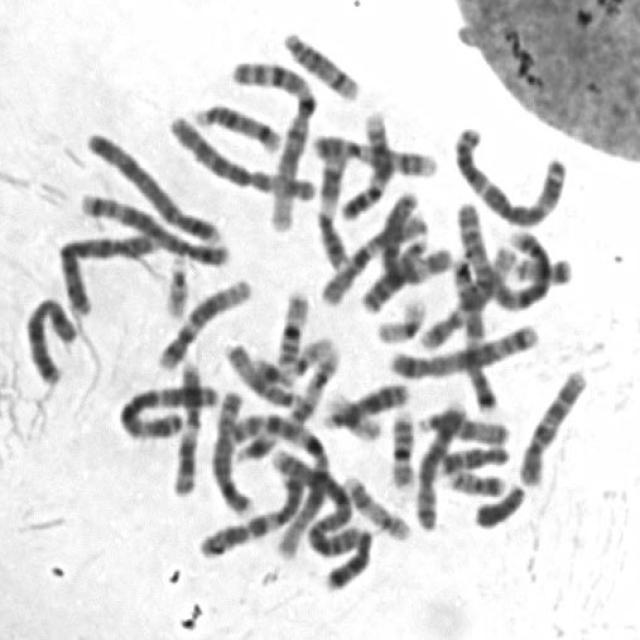A1: (220, 401, 330, 561), (227, 51, 318, 232)
A2: (266, 443, 370, 590), (452, 196, 555, 311)
A3: (449, 118, 573, 229), (114, 375, 222, 443)
B4: (79, 122, 226, 247), (54, 225, 160, 319)
B5: (74, 183, 232, 268), (384, 316, 542, 380)
C10: (316, 208, 429, 307), (514, 361, 591, 489)
C11: (167, 352, 203, 498), (312, 143, 353, 271)
C12: (415, 238, 523, 352), (153, 270, 255, 370)
C6: (163, 110, 318, 204), (376, 186, 453, 286)
C7: (192, 466, 305, 560), (446, 249, 504, 415)
C8: (408, 394, 470, 533), (207, 383, 256, 518)
C9: (337, 106, 396, 222), (307, 128, 439, 179)
D13: (355, 229, 430, 315), (319, 375, 412, 430)
D14: (276, 23, 362, 102), (188, 96, 284, 154)
D15: (218, 336, 304, 410), (414, 405, 513, 447)
E16: (270, 283, 312, 372), (385, 404, 418, 490)
E17: (338, 468, 413, 543), (283, 340, 342, 428)
E18: (318, 521, 375, 594), (434, 438, 511, 478)
F19: (321, 387, 384, 443), (371, 292, 429, 346)
F20: (442, 462, 507, 497), (509, 251, 574, 286)
G21: (228, 423, 280, 464), (246, 351, 297, 389)
G22: (284, 330, 337, 378), (159, 248, 192, 320)
X: (20, 289, 81, 387)
Y: (468, 478, 529, 530)
